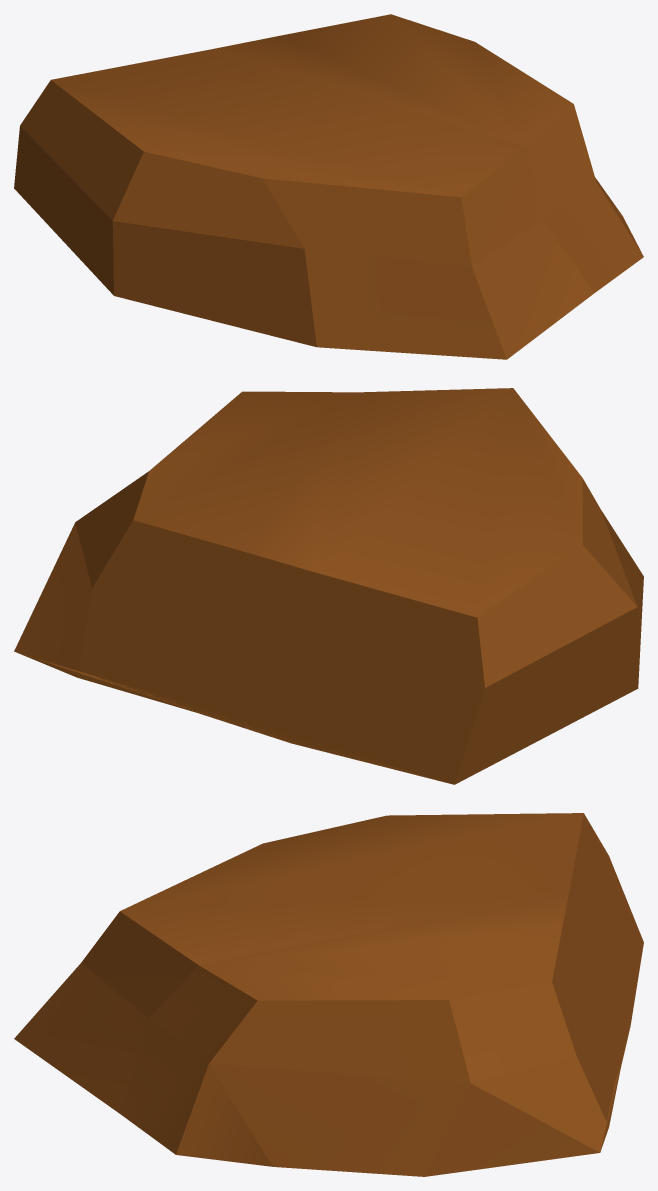
Rendered from HardRock_42.fbx.
3 views of the same model, one above another, from view 1: azimuth 30°, elevation 25°; view 2: azimuth 150°, elevation 25°; view 3: azimuth 270°, elevation 25° (orthographic). The views are drawn at different scales.
Parts seen in each view (by area): view 1: HardRock_42; view 2: HardRock_42; view 3: HardRock_42.
Boxes of the visible parts, left/top/right/bottom form: HardRock_42: left=14, top=14, right=643, bottom=359; HardRock_42: left=14, top=388, right=643, bottom=784; HardRock_42: left=14, top=813, right=643, bottom=1176.
Size of the model in its own units: 164 by 42.55 by 175.
